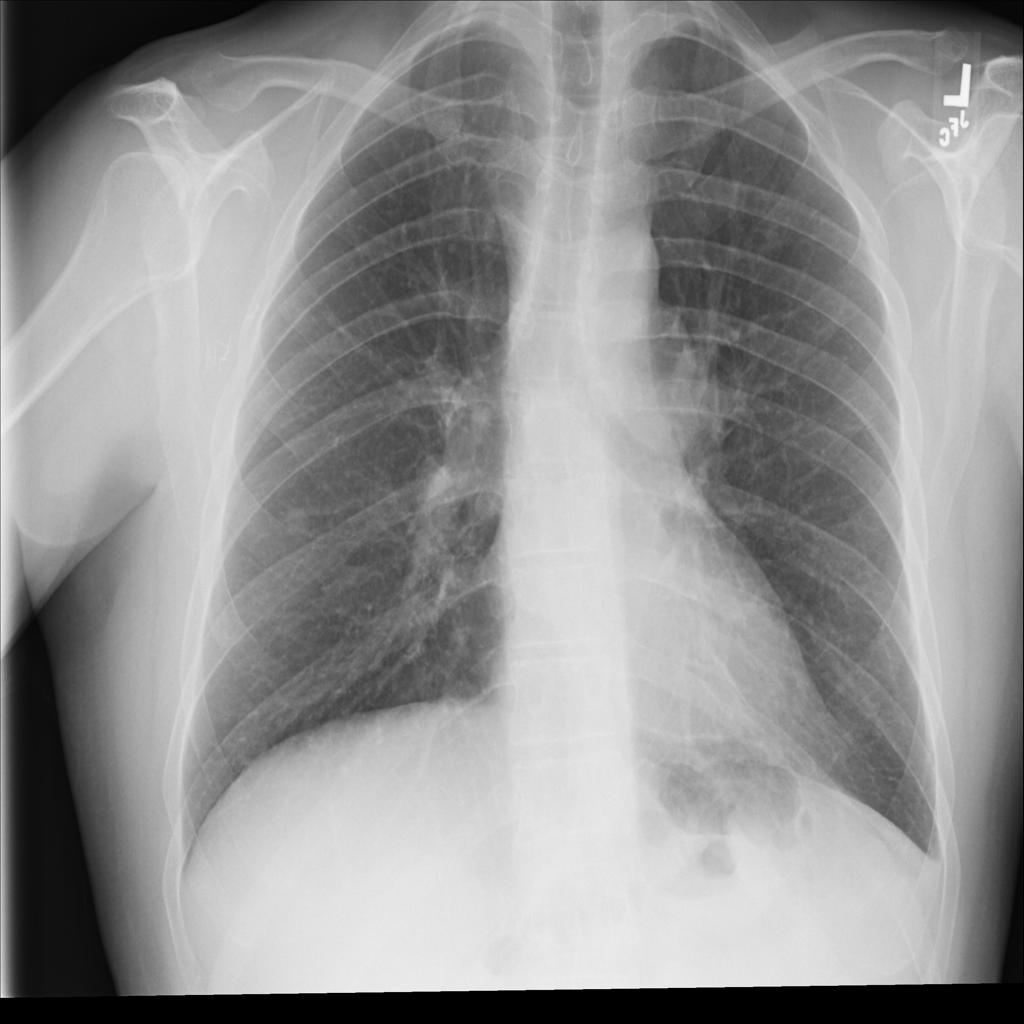nodule: (264, 483, 331, 557)
